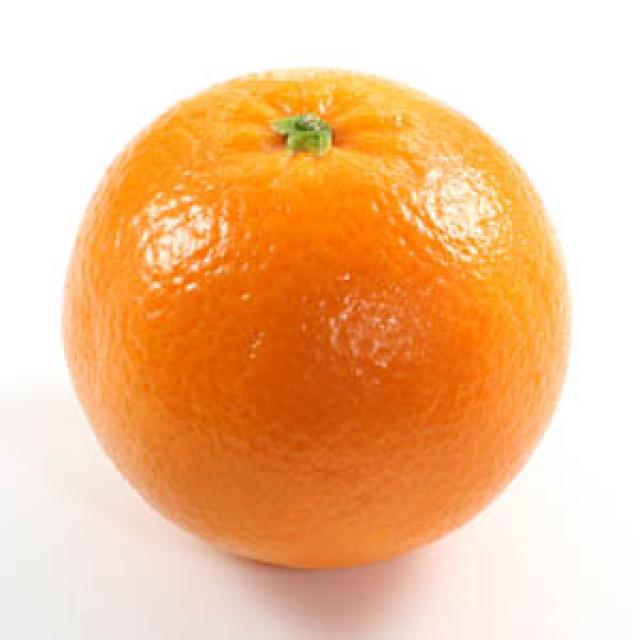orange: (57, 69, 572, 566)
